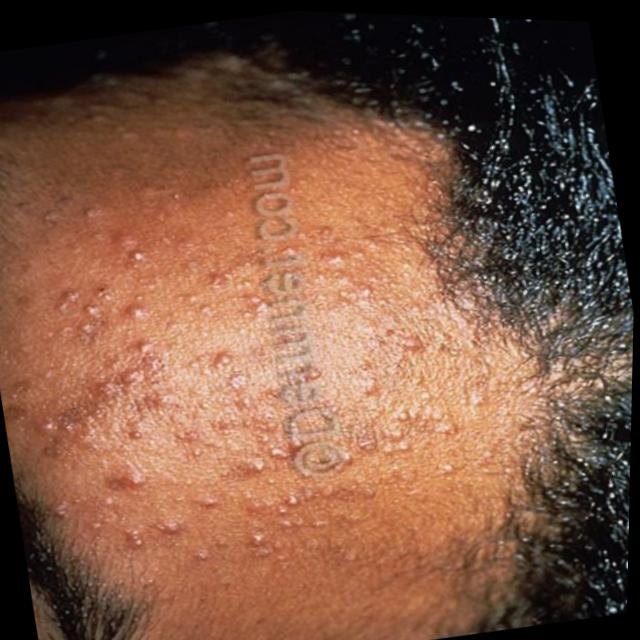Rosacea: (25, 158, 458, 566)
